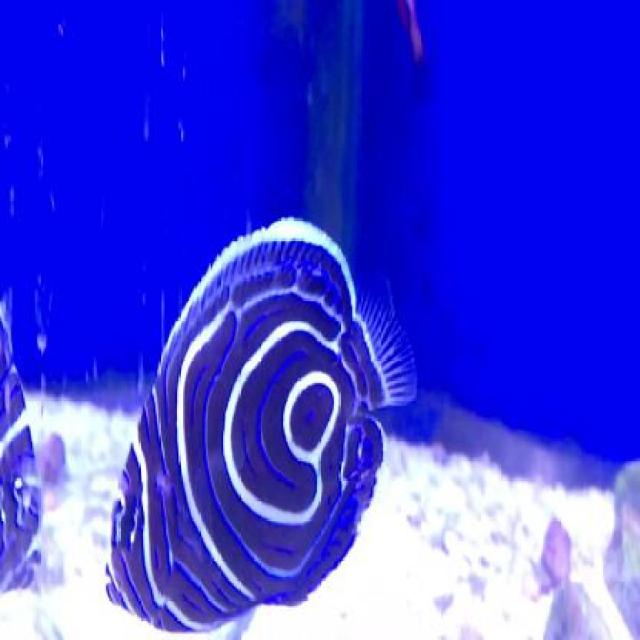AngelFish: (110, 214, 412, 636)
